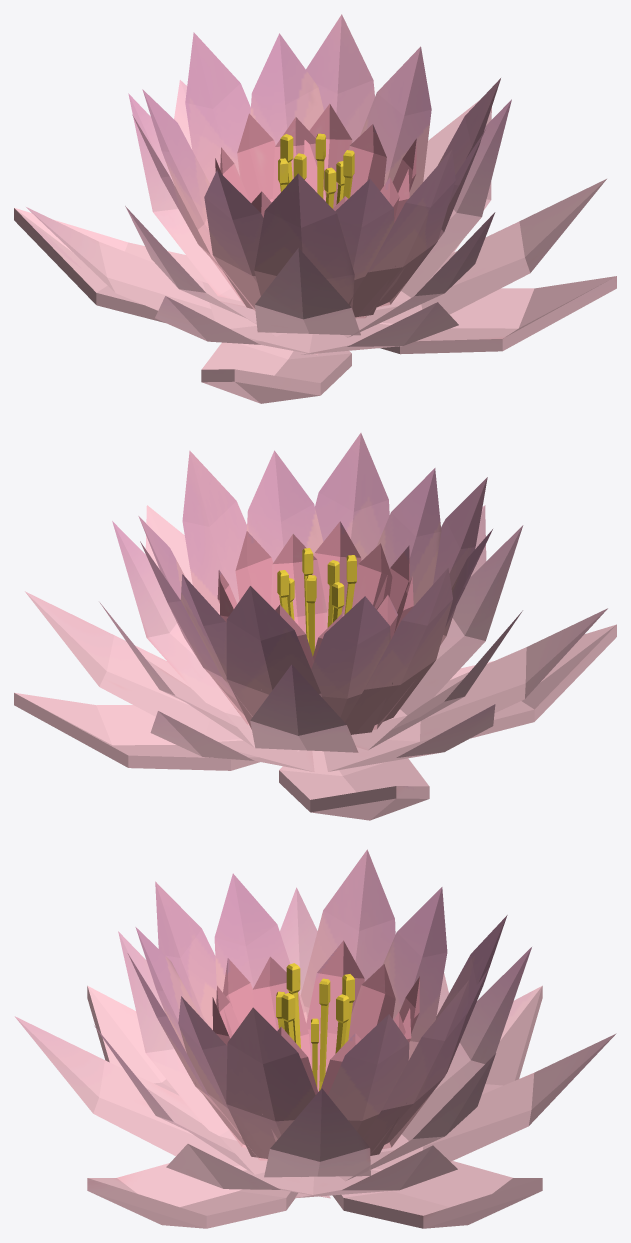
The model's file is Lotus.fbx.
3 views of the same model, one above another, from view 1: azimuth 30°, elevation 25°; view 2: azimuth 150°, elevation 25°; view 3: azimuth 270°, elevation 25° (orthographic). The views are drawn at different scales.
Parts seen in each view (by area): view 1: Plane.003; view 2: Plane.003; view 3: Plane.003.
Boxes of the visible parts, x1,y1,x2,y2 form: Plane.003: (14, 14, 616, 403); Plane.003: (14, 433, 616, 820); Plane.003: (14, 849, 616, 1228).
Bounding box in the file's own units: 0.4125 × 0.1979 × 0.4455.
